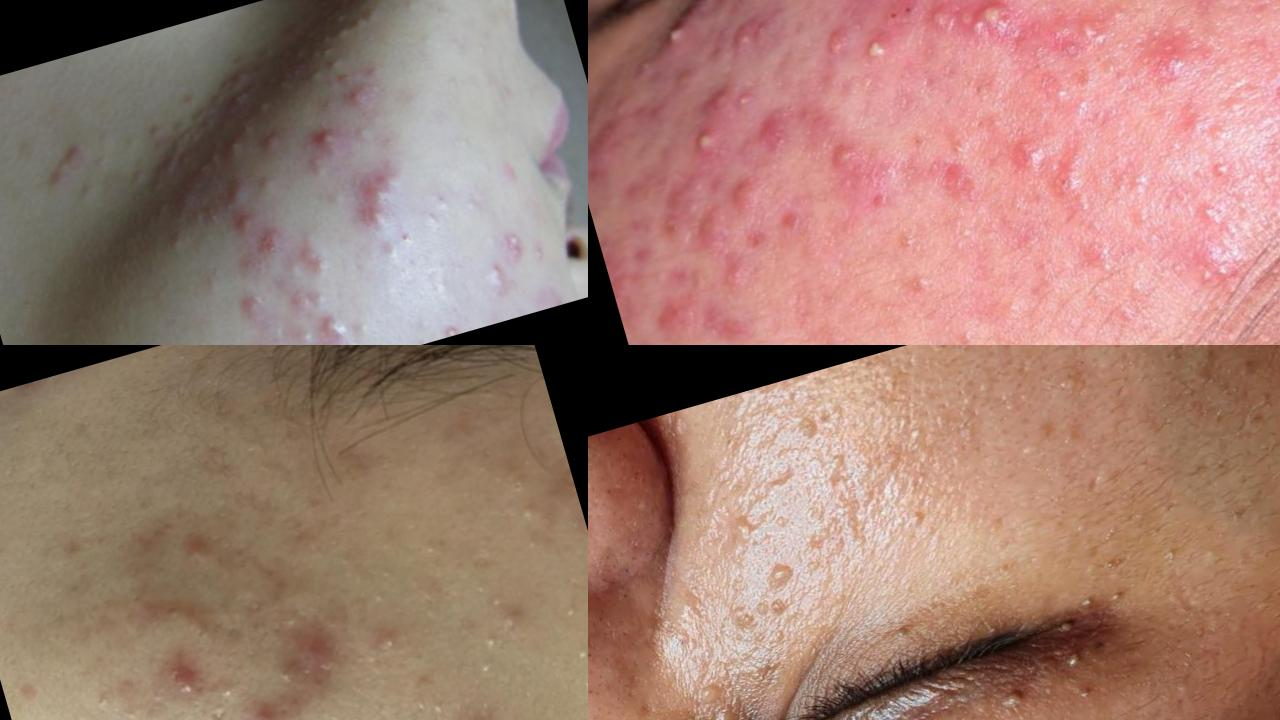blackhead: (262, 651, 310, 700), (589, 659, 612, 716)
cystic: (351, 159, 410, 212), (212, 165, 259, 218)
flat_wart: (692, 546, 817, 650), (917, 370, 1010, 455), (794, 499, 888, 572), (771, 402, 849, 456), (710, 504, 766, 557), (1030, 363, 1087, 412)
keloid: (608, 1, 761, 93), (589, 92, 660, 186)
milium: (1054, 639, 1106, 690), (1151, 533, 1185, 570), (1107, 579, 1130, 608)
papular: (822, 133, 934, 230), (635, 153, 744, 249), (906, 133, 1004, 232), (694, 233, 777, 321), (1034, 2, 1122, 63), (624, 280, 711, 339), (1141, 17, 1200, 93), (802, 128, 875, 179), (807, 14, 866, 75), (159, 650, 212, 717), (716, 159, 780, 211), (690, 207, 751, 261), (166, 520, 218, 570), (303, 639, 349, 688), (1258, 44, 1280, 122), (253, 224, 290, 261)
purulent: (665, 87, 740, 183), (977, 107, 1062, 180), (847, 21, 904, 76), (423, 308, 473, 341), (298, 235, 330, 282), (318, 306, 355, 346), (229, 212, 266, 252), (230, 287, 264, 325), (359, 207, 396, 241), (242, 695, 292, 720), (315, 124, 342, 152)
sebo-crystan-conglo: (907, 1, 1037, 72), (661, 109, 742, 169), (343, 79, 388, 117), (498, 222, 529, 263), (258, 224, 292, 261)
syringoma: (674, 656, 767, 720)
whitehead: (311, 1, 387, 59), (1080, 229, 1143, 291), (1105, 160, 1164, 214), (895, 256, 945, 312), (408, 516, 455, 558), (1187, 255, 1232, 294), (298, 24, 339, 66), (369, 622, 410, 662), (490, 602, 532, 641), (1088, 47, 1127, 88), (1199, 147, 1235, 191), (305, 57, 351, 91), (207, 667, 240, 714), (116, 164, 153, 195), (1041, 75, 1072, 109), (474, 652, 504, 686), (1199, 1, 1255, 19), (181, 101, 217, 128), (160, 223, 192, 253), (511, 488, 543, 517), (564, 635, 589, 672), (254, 94, 281, 118), (1096, 335, 1154, 346), (192, 154, 215, 181), (222, 134, 245, 157), (399, 1, 420, 19)
